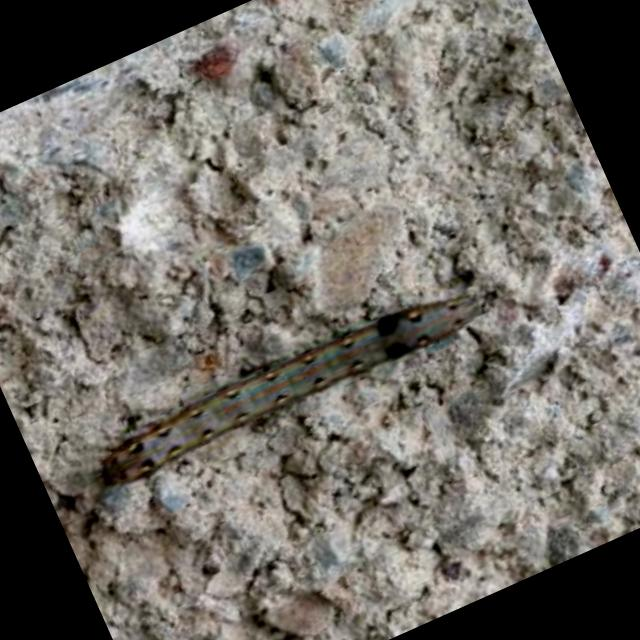Tobacco cutworm: (34, 166, 602, 614)
